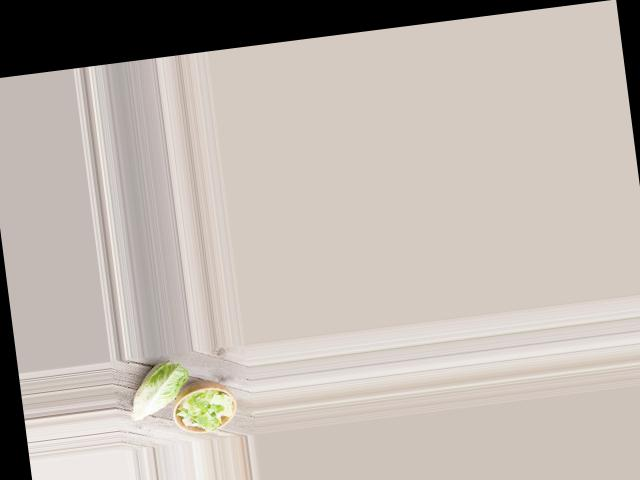lettuce: (126, 357, 193, 421)
